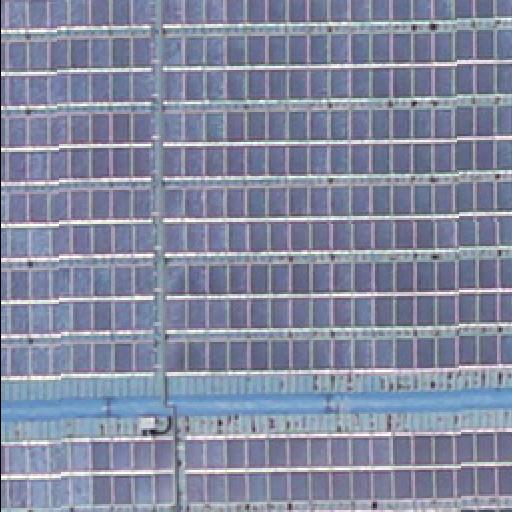solar-panel: (0, 0, 512, 379), (0, 425, 512, 512)
